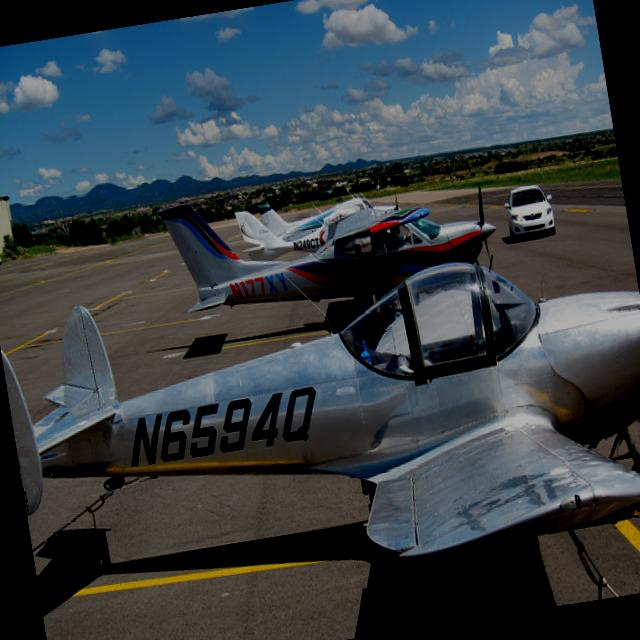Vehicle: (502, 184, 558, 243)
